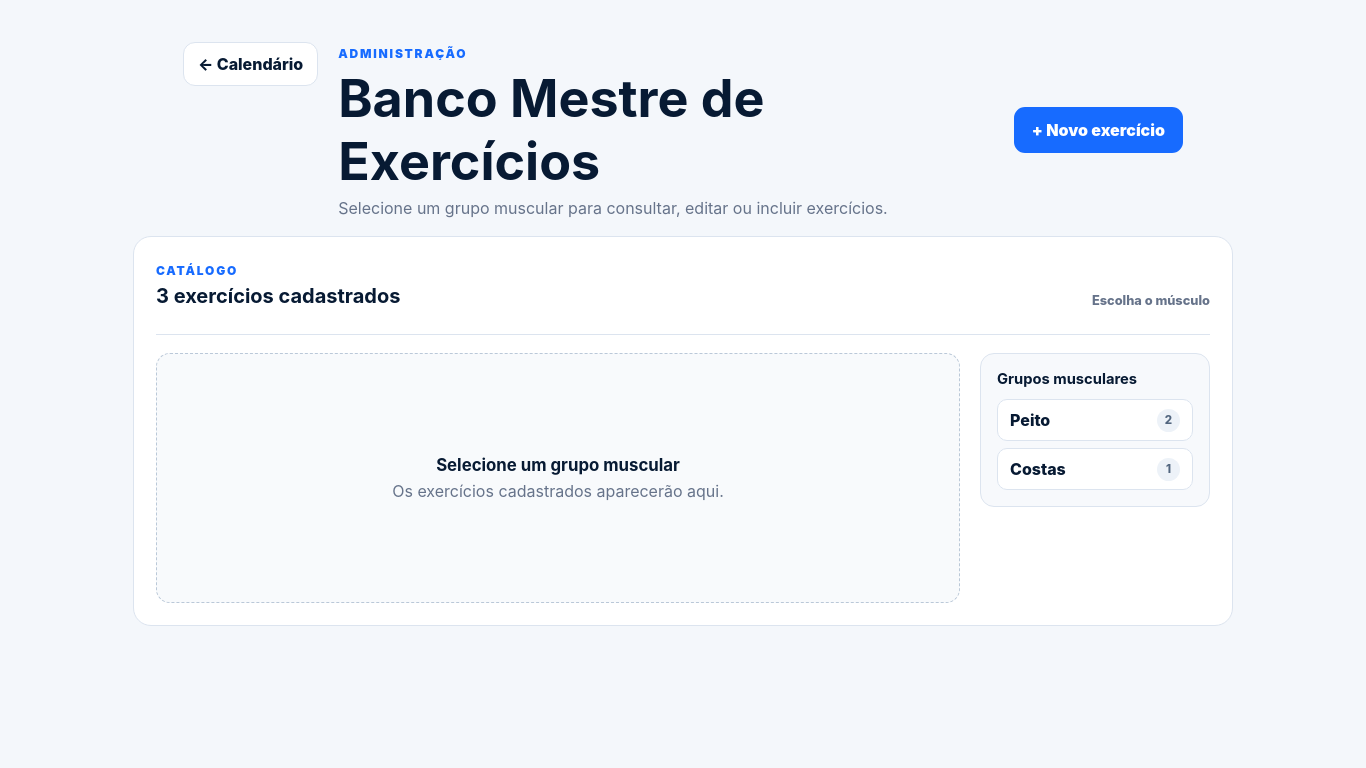
catálogo administrativo compacto › inicia sem seleção e abre somente o grupo escolhido
The image size is (1366, 768).
Expected: the text "Selecione um grupo muscular" is shown, [436,455,680,475]
Expected: the text "Supino articulado" is not shown
Click the tab named "Peito, 2 exercícios".
click(1095, 420)  # box [997,399,1193,441]
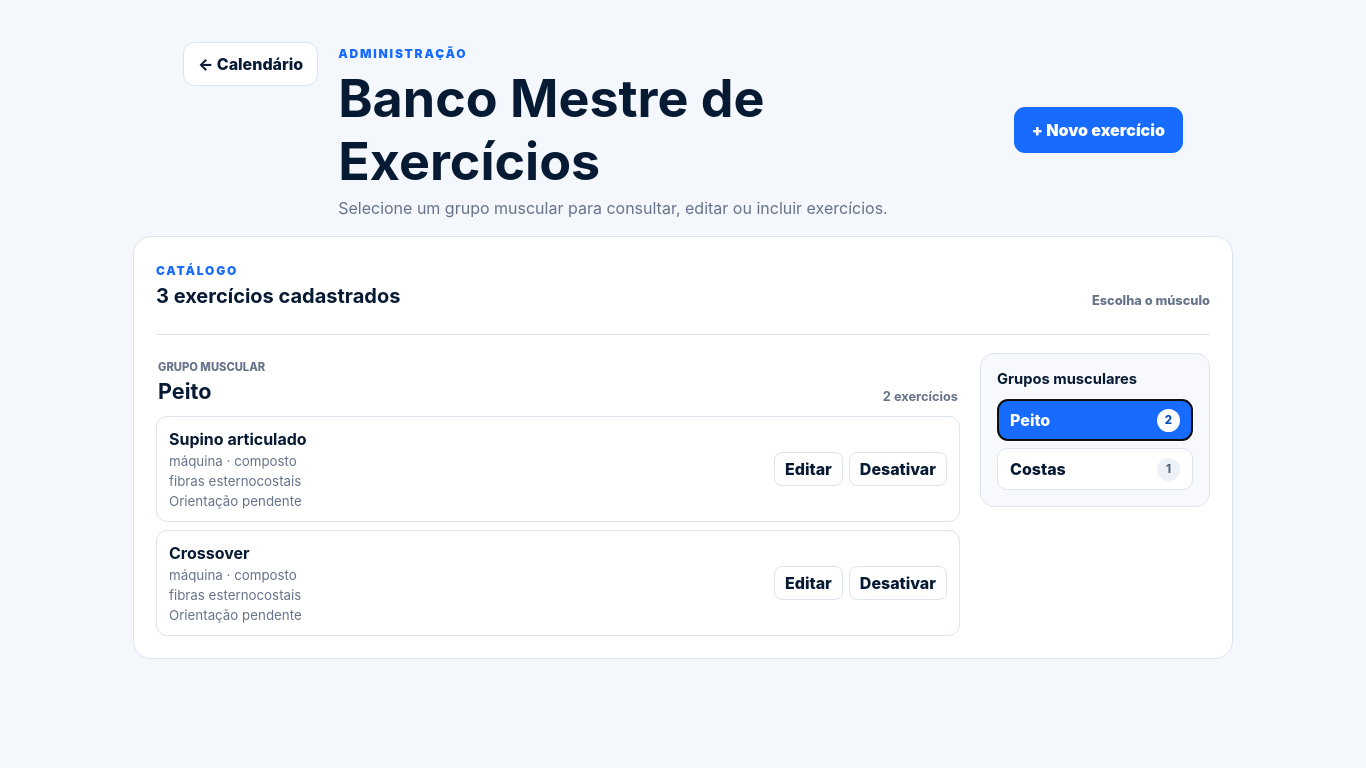
Expected: the text "Supino articulado" is shown, [169,429,307,449]
Click the tab named "Peito, 2 exercícios".
click(1095, 420)  # box [997,399,1193,441]
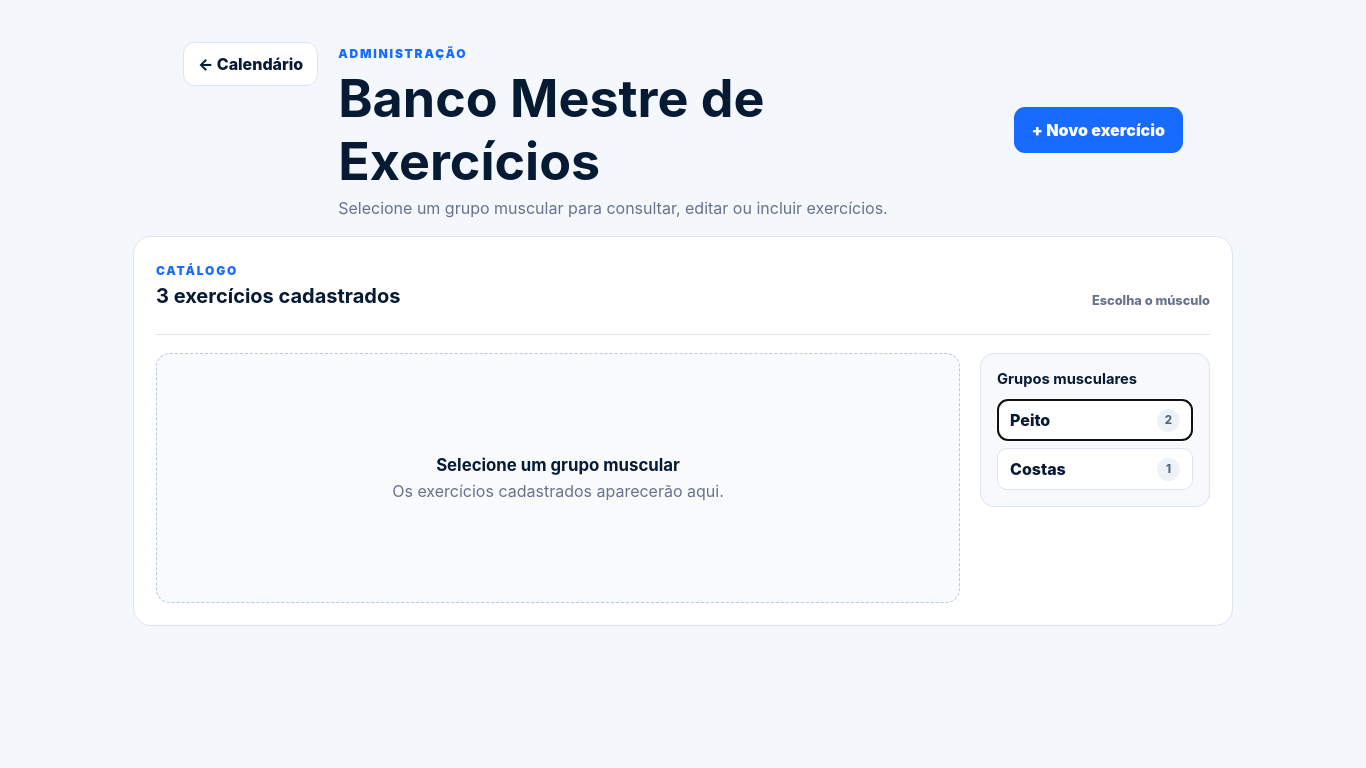
Expected: the text "Selecione um grupo muscular" is shown, [436,455,680,475]
Expected: the text "Supino articulado" is gone
Click the tab named "Costas, 1 exercício".
click(1095, 469)  # box [997,448,1193,490]
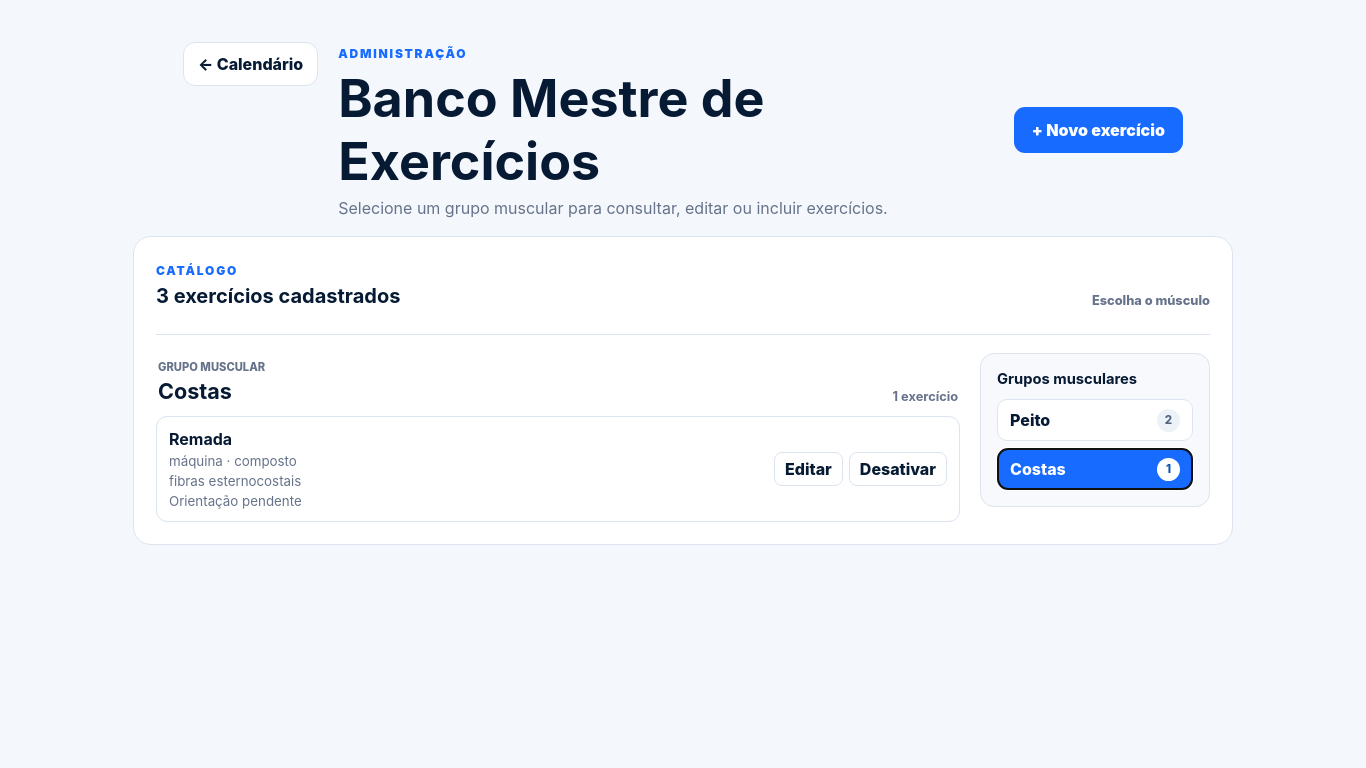
Expected: the text "Supino articulado" is not shown
Expected: the text "Remada" is shown, [169,429,232,449]
